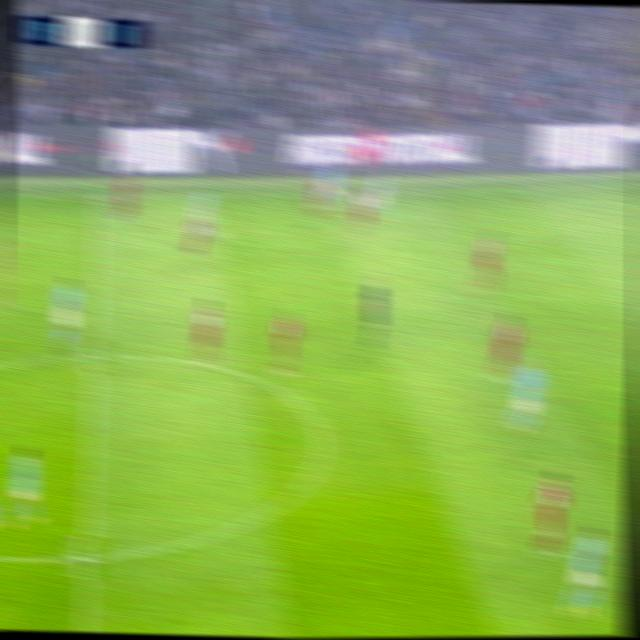halfcircle_bottom: (65, 534, 105, 578)
halfcircle_top: (73, 336, 110, 374)
midline_top_intersection: (81, 182, 111, 210)
